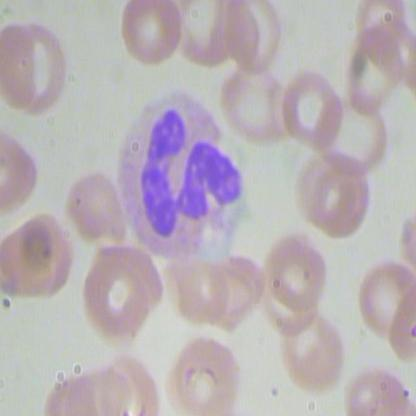RBC: (77, 251, 164, 342), (277, 306, 352, 395), (165, 327, 240, 415), (279, 68, 344, 155), (350, 256, 415, 343), (113, 1, 183, 67), (69, 172, 125, 249)
WBC: (113, 86, 250, 265)
